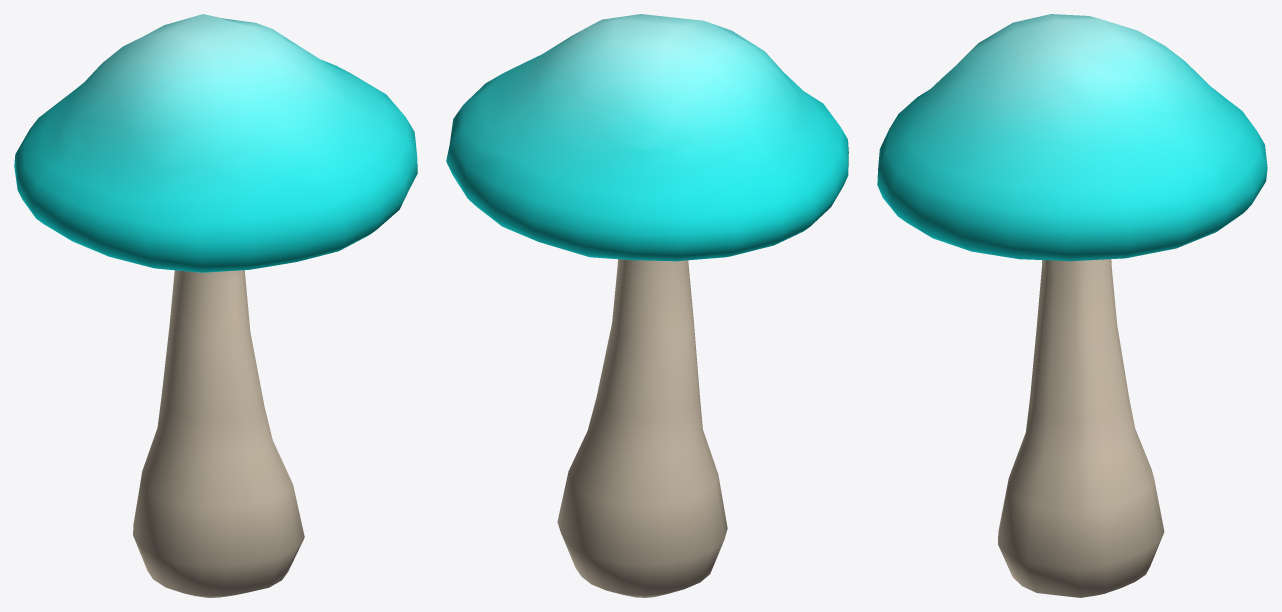
The model's file is Mushroom_0001_0027.fbx.
The picture shows the model from 3 angles, left to right: view 1: azimuth 30°, elevation 25°; view 2: azimuth 150°, elevation 25°; view 3: azimuth 270°, elevation 25°; orthographic projection.
Parts seen in each view (by area): view 1: Mushroom_0001_0027; view 2: Mushroom_0001_0027; view 3: Mushroom_0001_0027.
Boxes of the visible parts, x1,y1,x2,y2 form: Mushroom_0001_0027: (14, 14, 417, 597); Mushroom_0001_0027: (446, 14, 848, 597); Mushroom_0001_0027: (877, 14, 1267, 597).
Bounding box in the file's own units: 0.1477 × 0.2245 × 0.1436.
Materials: 1 (1 with a texture image).
